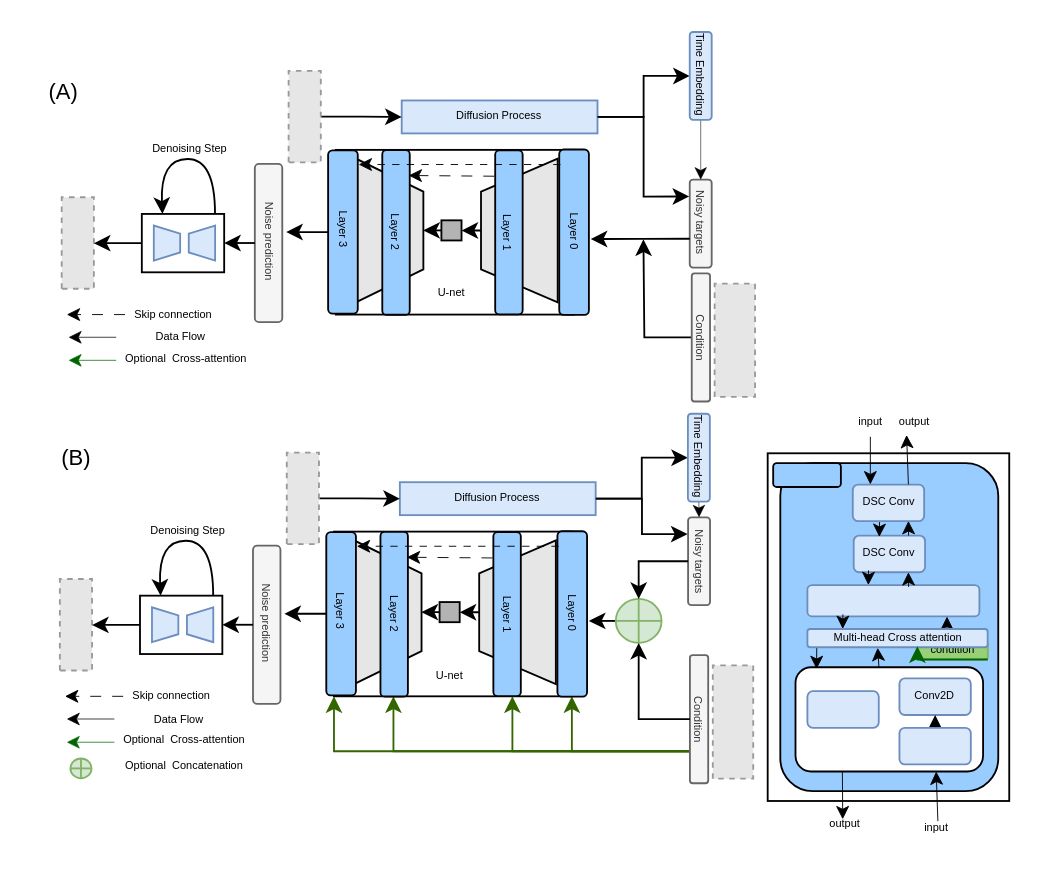
This 1041x886 diagram has some shape labels left out. Grey dashed boxes stand in for pictures. Each missing label, with the centre of its shape:
"Interpolate" belongs at (934,745).
"Layer n:" belongs at (806,474).
"Multi-head Self-attention" belongs at (892,599).
"SPD Conv" belongs at (842,708).
